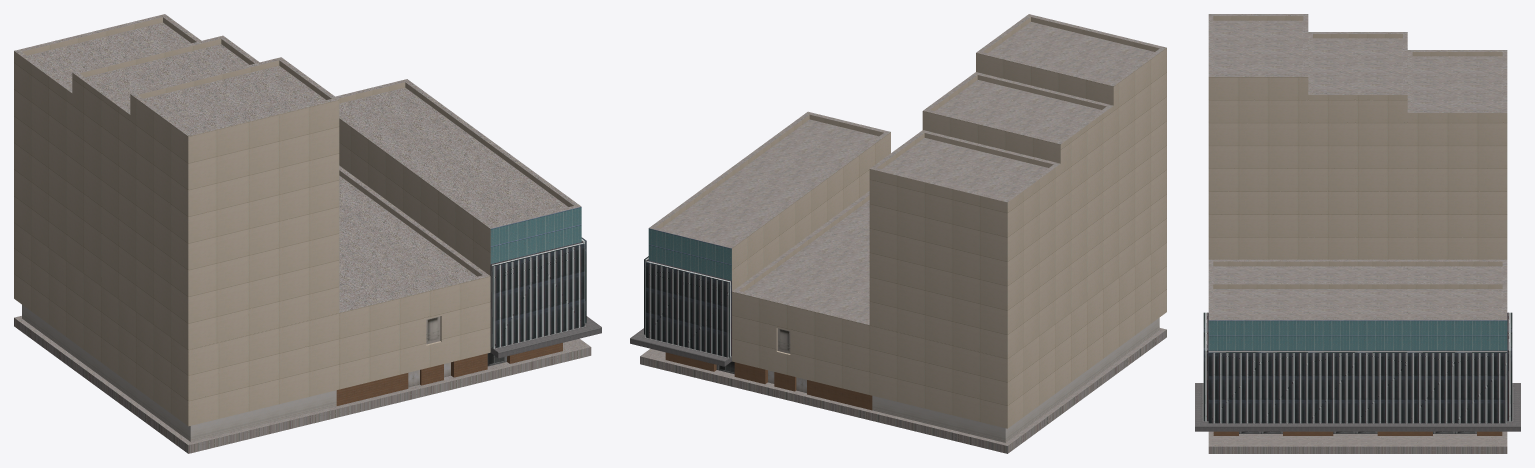
The model's file is bnuhotel01_lvs.obj.
3 renders of one model, left to right at view 1: azimuth 30°, elevation 25°; view 2: azimuth 150°, elevation 25°; view 3: azimuth 270°, elevation 25°, orthographic. The views are drawn at different scales.
Visible parts, largest first — view 1: bnuhotel01_lvs; view 2: bnuhotel01_lvs; view 3: bnuhotel01_lvs.
Part boxes in pixels (left/top/right/bottom): bnuhotel01_lvs: left=14, top=14, right=601, bottom=453; bnuhotel01_lvs: left=630, top=14, right=1166, bottom=453; bnuhotel01_lvs: left=1195, top=14, right=1520, bottom=453.
Bounding box in the file's own units: 80.56 × 60.25 × 65.44.
Materials: 10 (10 with a texture image).
